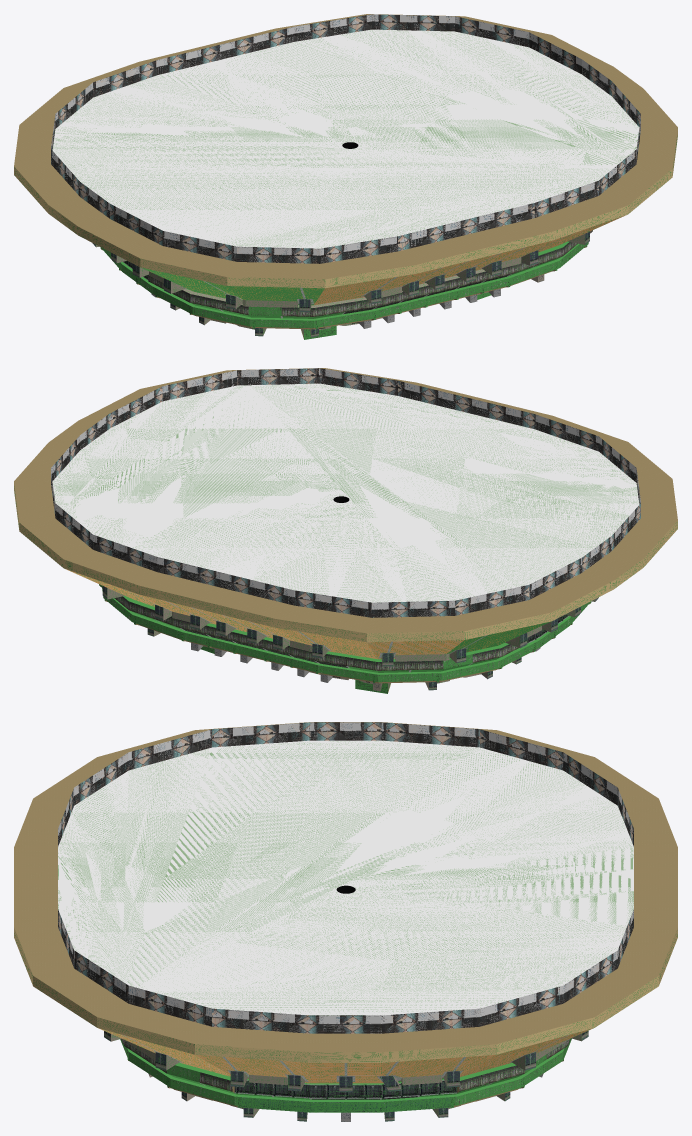
Rendered from garden.glb.
3 views of the same model, one above another, from view 1: azimuth 30°, elevation 25°; view 2: azimuth 150°, elevation 25°; view 3: azimuth 270°, elevation 25° (orthographic). The views are drawn at different scales.
Parts seen in each view (by area): view 1: ID1162, ID17407, material_22, material_31, ID601, ID15924, material_29, material_39, material_13, material_15, material_27, material_12 (+1 smaller); view 2: ID1162, ID17407, material_22, material_31, ID601, ID15924, material_39, material_29, material_13, material_15, material_27, material_12; view 3: ID1162, ID17407, material_22, material_31, ID601, ID15924, material_39, material_30, material_15, material_13, material_29, material_23 (+1 smaller).
Part boxes in pixels (box(x1,y1,x2,y2)): ID1162: box(52, 29, 639, 248); ID17407: box(53, 30, 638, 248); material_22: box(14, 14, 677, 329); material_31: box(51, 14, 640, 263); ID601: box(14, 137, 677, 339); ID15924: box(14, 129, 677, 288); material_29: box(148, 230, 592, 316); material_39: box(314, 215, 626, 305); material_13: box(96, 234, 585, 336); material_15: box(92, 231, 589, 337); material_27: box(102, 243, 588, 327); material_12: box(151, 249, 539, 328); ID1162: box(52, 383, 639, 602); ID17407: box(53, 383, 638, 602); material_22: box(14, 368, 677, 683); material_31: box(51, 368, 640, 617); ID601: box(14, 486, 677, 693); ID15924: box(14, 483, 677, 642); material_39: box(65, 569, 463, 659); material_29: box(114, 596, 518, 670); material_13: box(107, 588, 595, 691); material_15: box(102, 586, 598, 690); material_27: box(100, 585, 588, 681); material_12: box(153, 604, 540, 682); ID1162: box(58, 740, 633, 1015); ID17407: box(58, 740, 633, 1015); material_22: box(14, 722, 677, 1106); material_31: box(58, 722, 633, 1033); ID601: box(14, 933, 677, 1120); ID15924: box(14, 927, 677, 1062); material_39: box(98, 1028, 592, 1083); material_30: box(234, 1080, 457, 1098); material_15: box(104, 1031, 588, 1121); material_13: box(111, 1033, 581, 1118); material_29: box(121, 1038, 570, 1091); material_23: box(241, 1097, 450, 1112).
Bounding box in the file's own units: 245 × 59.36 × 208.
83 materials, 38 textured.
